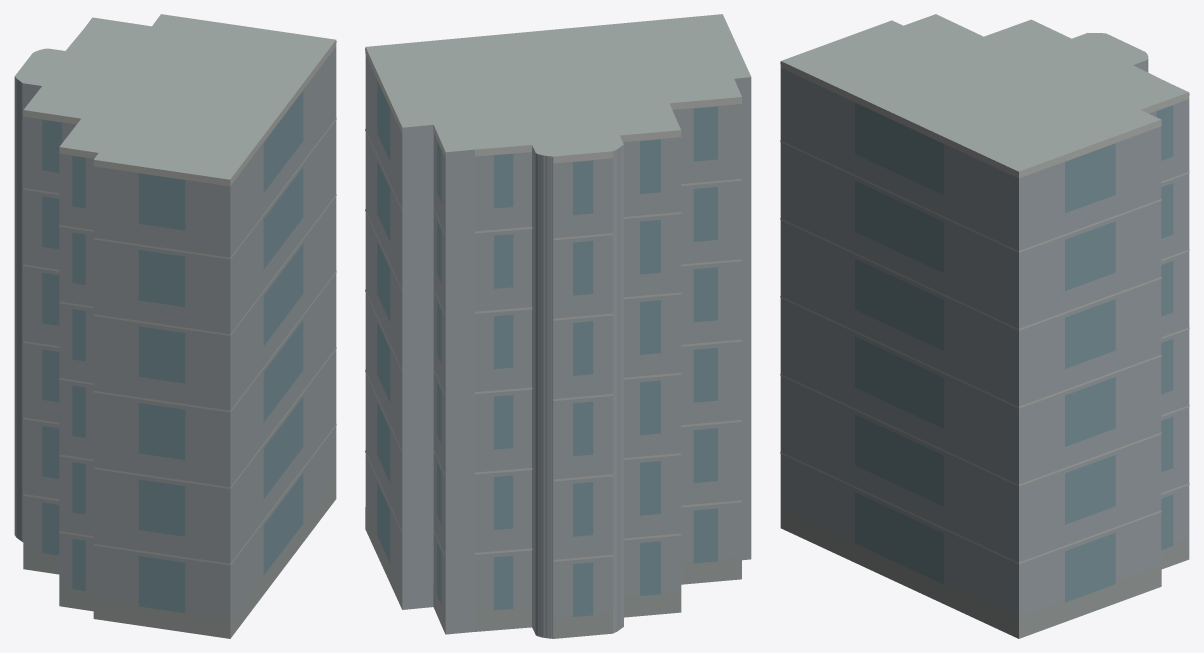
The model's file is survey-upis-32658854.glb.
3 views of the same model, side by side, from view 1: azimuth 30°, elevation 25°; view 2: azimuth 150°, elevation 25°; view 3: azimuth 270°, elevation 25° (orthographic). The views are drawn at different scales.
Visible parts, largest first — view 1: survey-upis-32658854.tmp; view 2: survey-upis-32658854.tmp; view 3: survey-upis-32658854.tmp.
Boxes of the visible parts, left/top/right/bottom form: survey-upis-32658854.tmp: left=14, top=14, right=336, bottom=638; survey-upis-32658854.tmp: left=365, top=14, right=751, bottom=638; survey-upis-32658854.tmp: left=780, top=14, right=1189, bottom=638.
Bounding box in the file's own units: 12.26 × 16.9 × 13.42.
